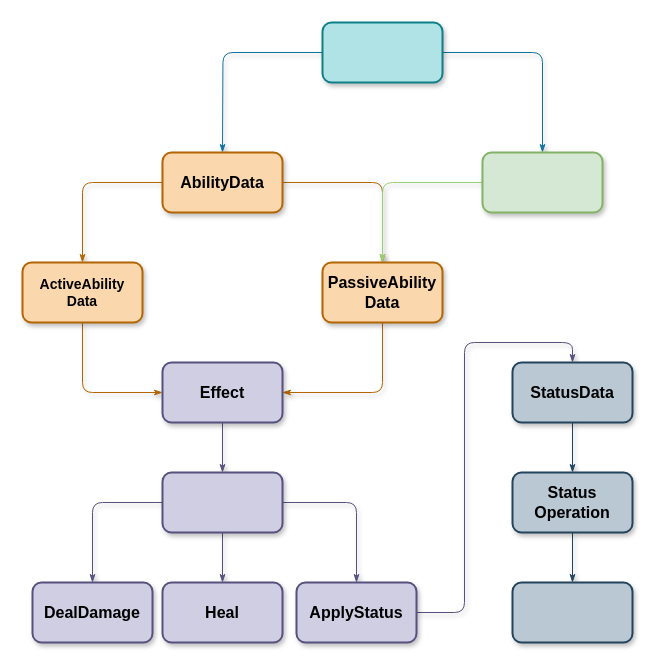
Some shapes in this 656 by 667 pixel diagram are drawn without their labels. Each missing label, with the centre of its shape:
"Action" belongs at point (223, 503).
"Additive Multiplicative ..." belongs at point (573, 613).
"FamilyData" belongs at point (543, 183).
"VoraxData" belongs at point (383, 53).
